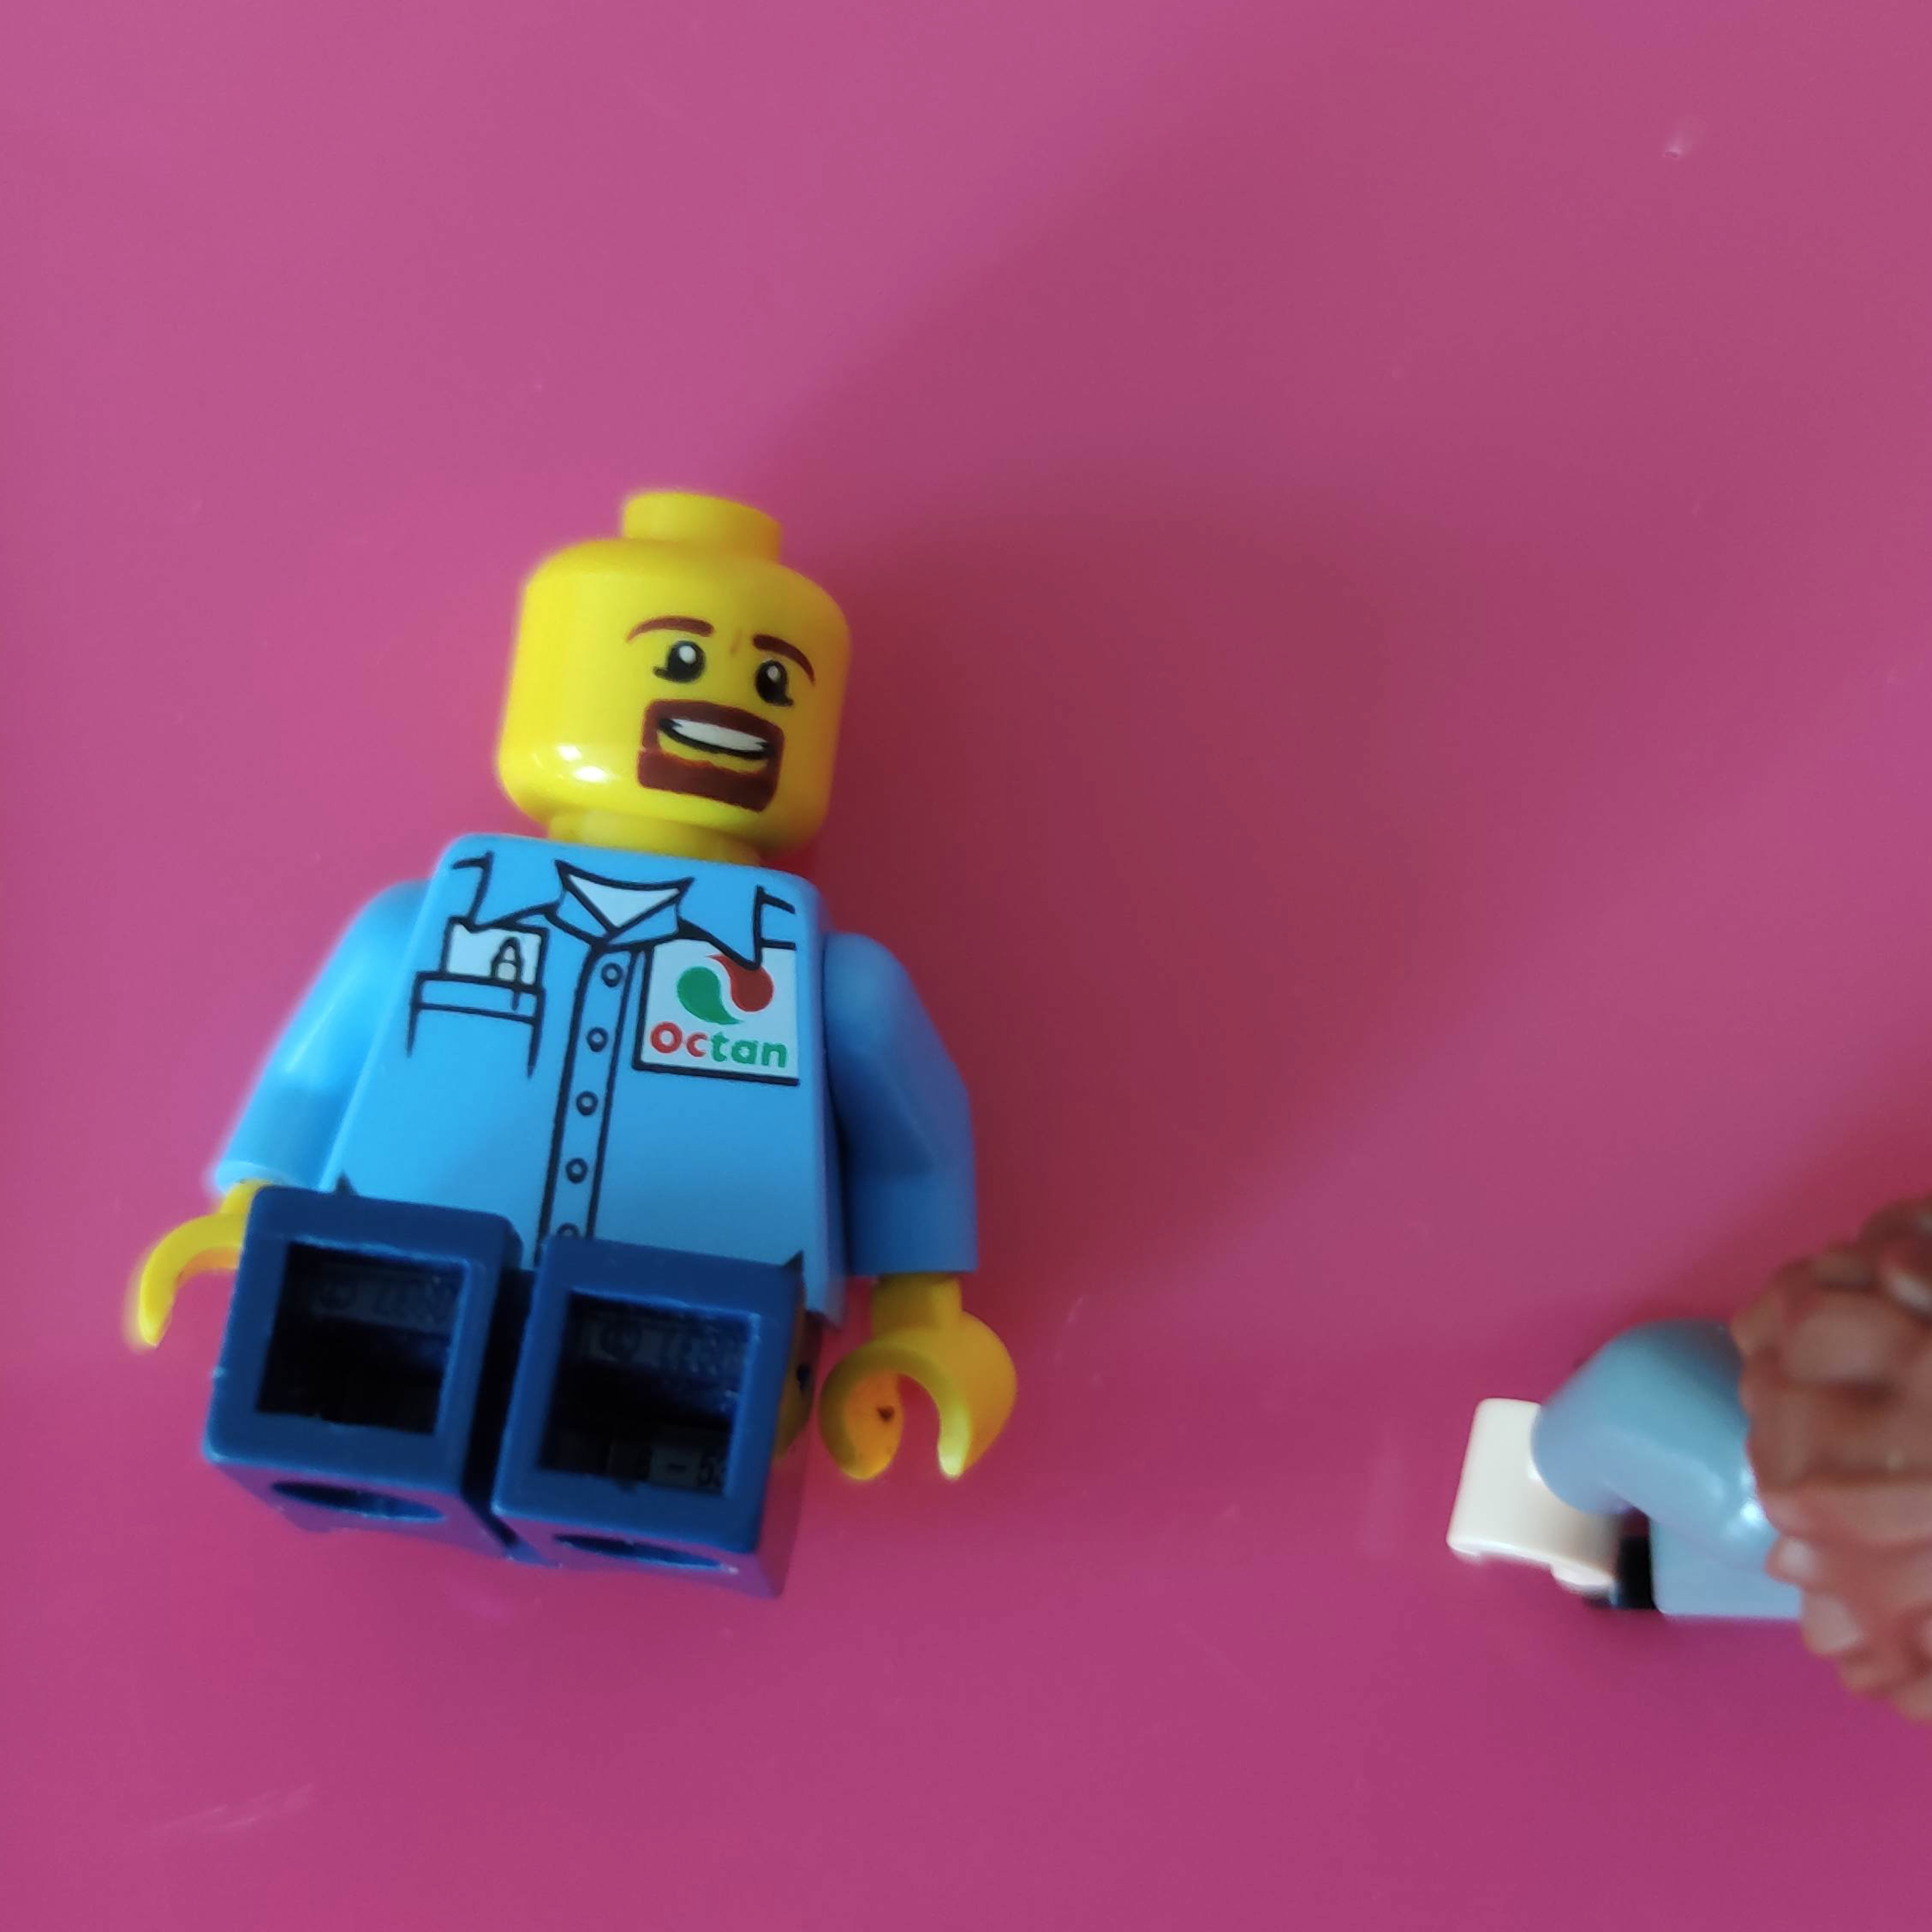lego: (138, 494, 1023, 1606)
